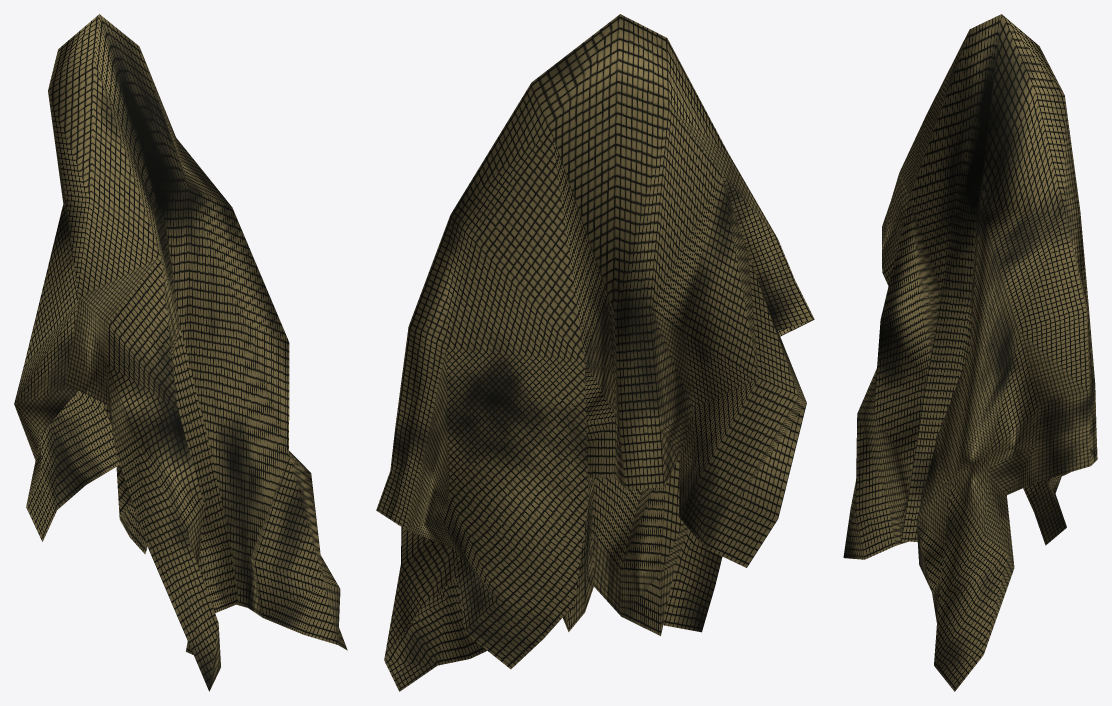
File: Cloth.fbx
3 views of the same model, side by side, from view 1: azimuth 30°, elevation 25°; view 2: azimuth 150°, elevation 25°; view 3: azimuth 270°, elevation 25° (orthographic). The views are drawn at different scales.
Parts seen in each view (by area): view 1: cloth (2).001; view 2: cloth (2).001; view 3: cloth (2).001.
Part boxes in pixels (x1=…): cloth (2).001: x1=14, y1=14, x2=347, y2=691; cloth (2).001: x1=376, y1=14, x2=814, y2=691; cloth (2).001: x1=843, y1=14, x2=1097, y2=691.
Bounding box in the file's own units: 0.1814 × 0.3393 × 0.1338.
